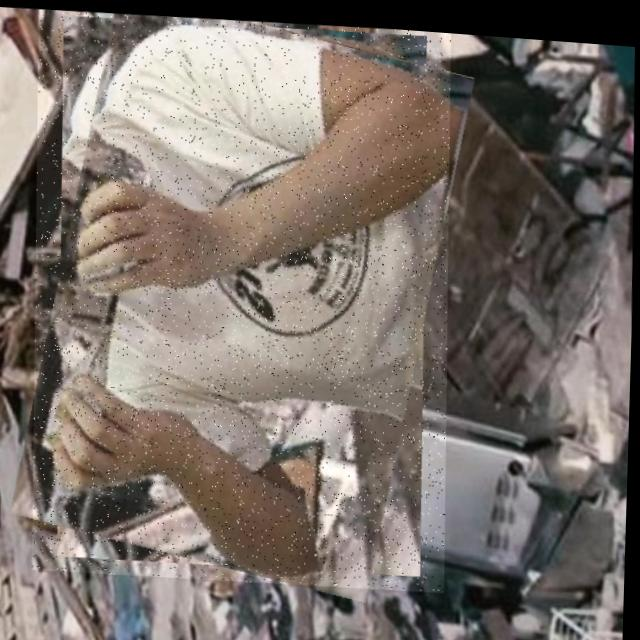Person in Rubble: (25, 2, 460, 591)
